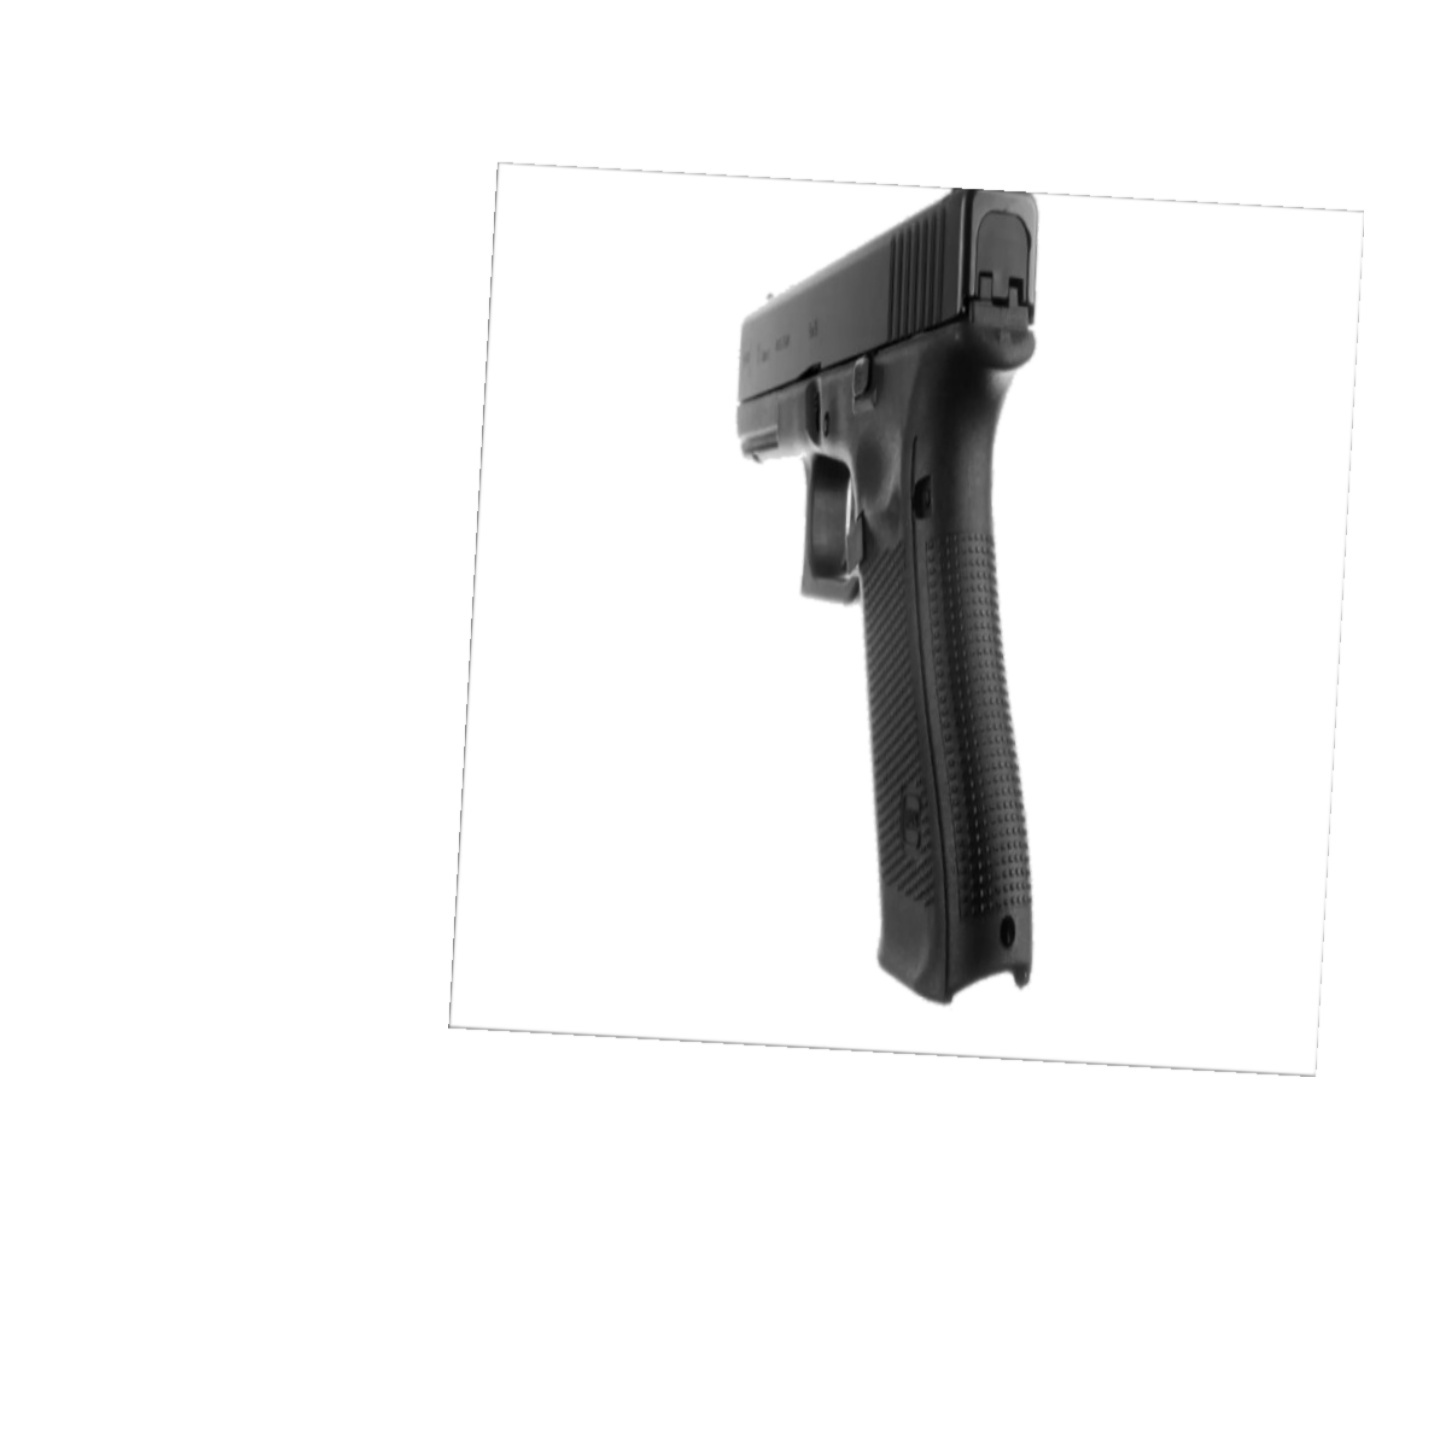gun: (702, 188, 1082, 1025)
